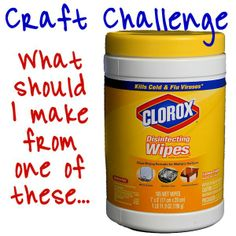Wipes: (101, 26, 229, 234)
